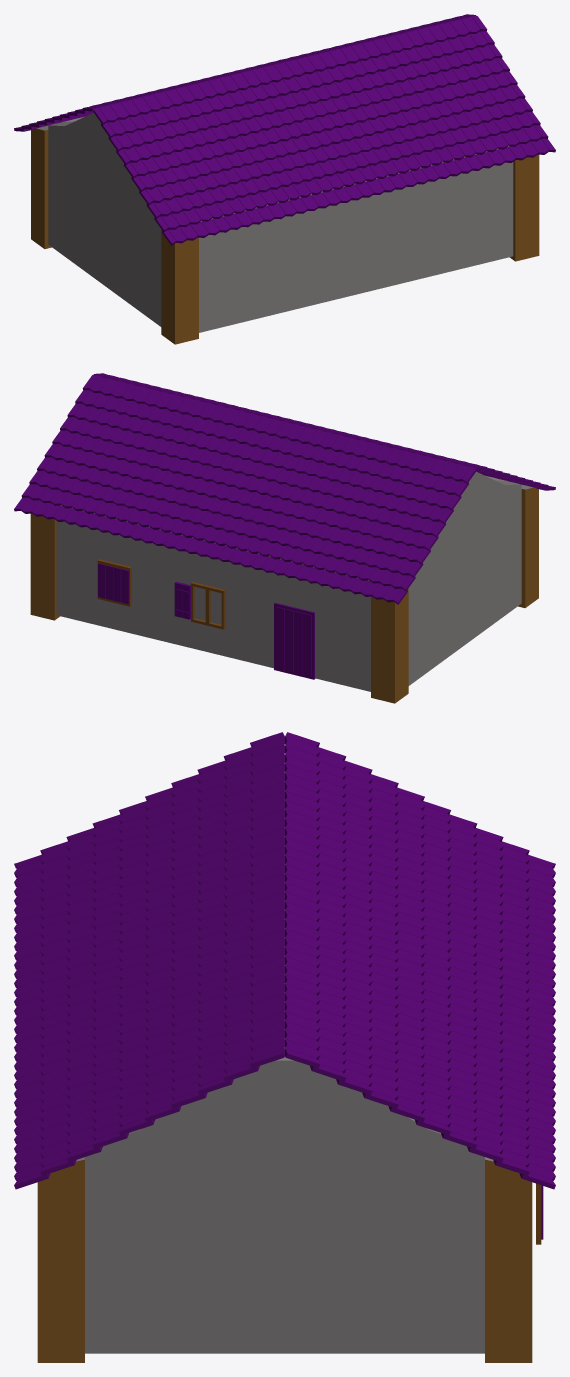
The model's file is Maison Base (1).fbx.
The picture shows the model from 3 angles, top to bottom: view 1: azimuth 30°, elevation 25°; view 2: azimuth 150°, elevation 25°; view 3: azimuth 270°, elevation 25°; orthographic projection. The views are drawn at different scales.
Parts seen in each view (by area): view 1: Maison Base RPDPC; view 2: Maison Base RPDPC; view 3: Maison Base RPDPC.
Part boxes in pixels (x1,y1,x2,y2): Maison Base RPDPC: (14, 14, 555, 344); Maison Base RPDPC: (14, 373, 555, 703); Maison Base RPDPC: (14, 732, 555, 1362).
Bounding box in the file's own units: 4611 × 2129 × 3286.
4 materials, 1 textured.
